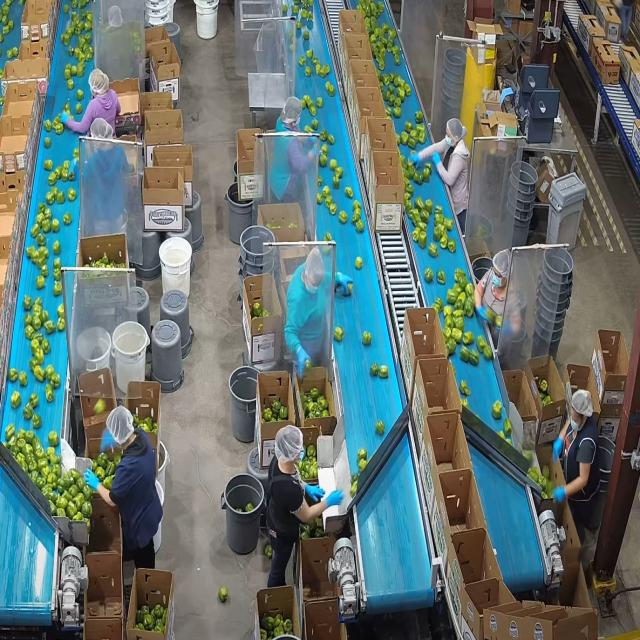gloved_hand: (334, 266, 354, 304), (302, 479, 326, 509), (81, 466, 103, 497), (295, 347, 314, 381), (325, 485, 347, 514), (549, 427, 565, 463), (551, 482, 568, 504), (473, 304, 492, 323), (407, 150, 423, 171), (431, 145, 444, 170), (57, 112, 73, 128)
